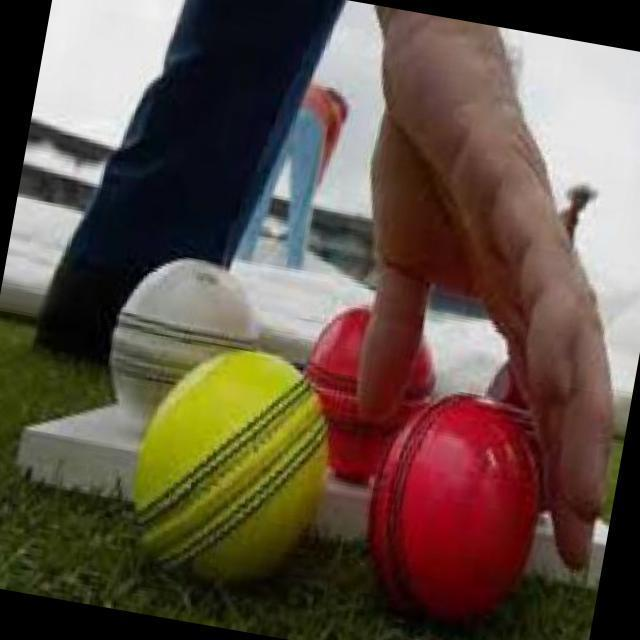-: (132, 330, 331, 576), (376, 393, 574, 636), (102, 216, 264, 425), (284, 321, 427, 484)
